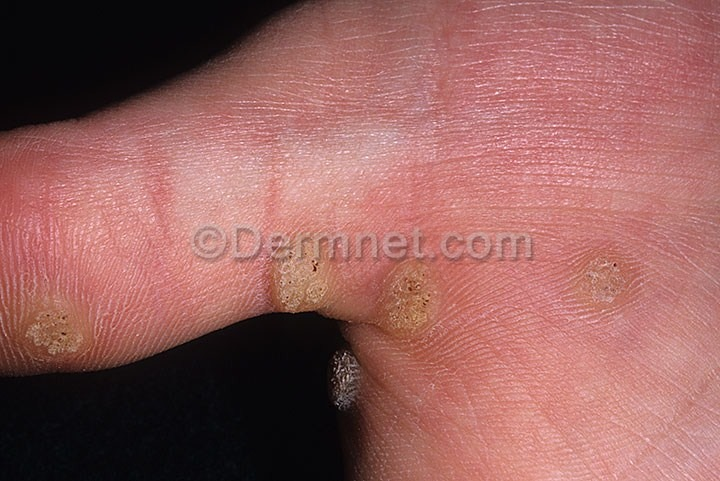Warts: (375, 261, 444, 343), (14, 290, 86, 361), (571, 247, 641, 316)
